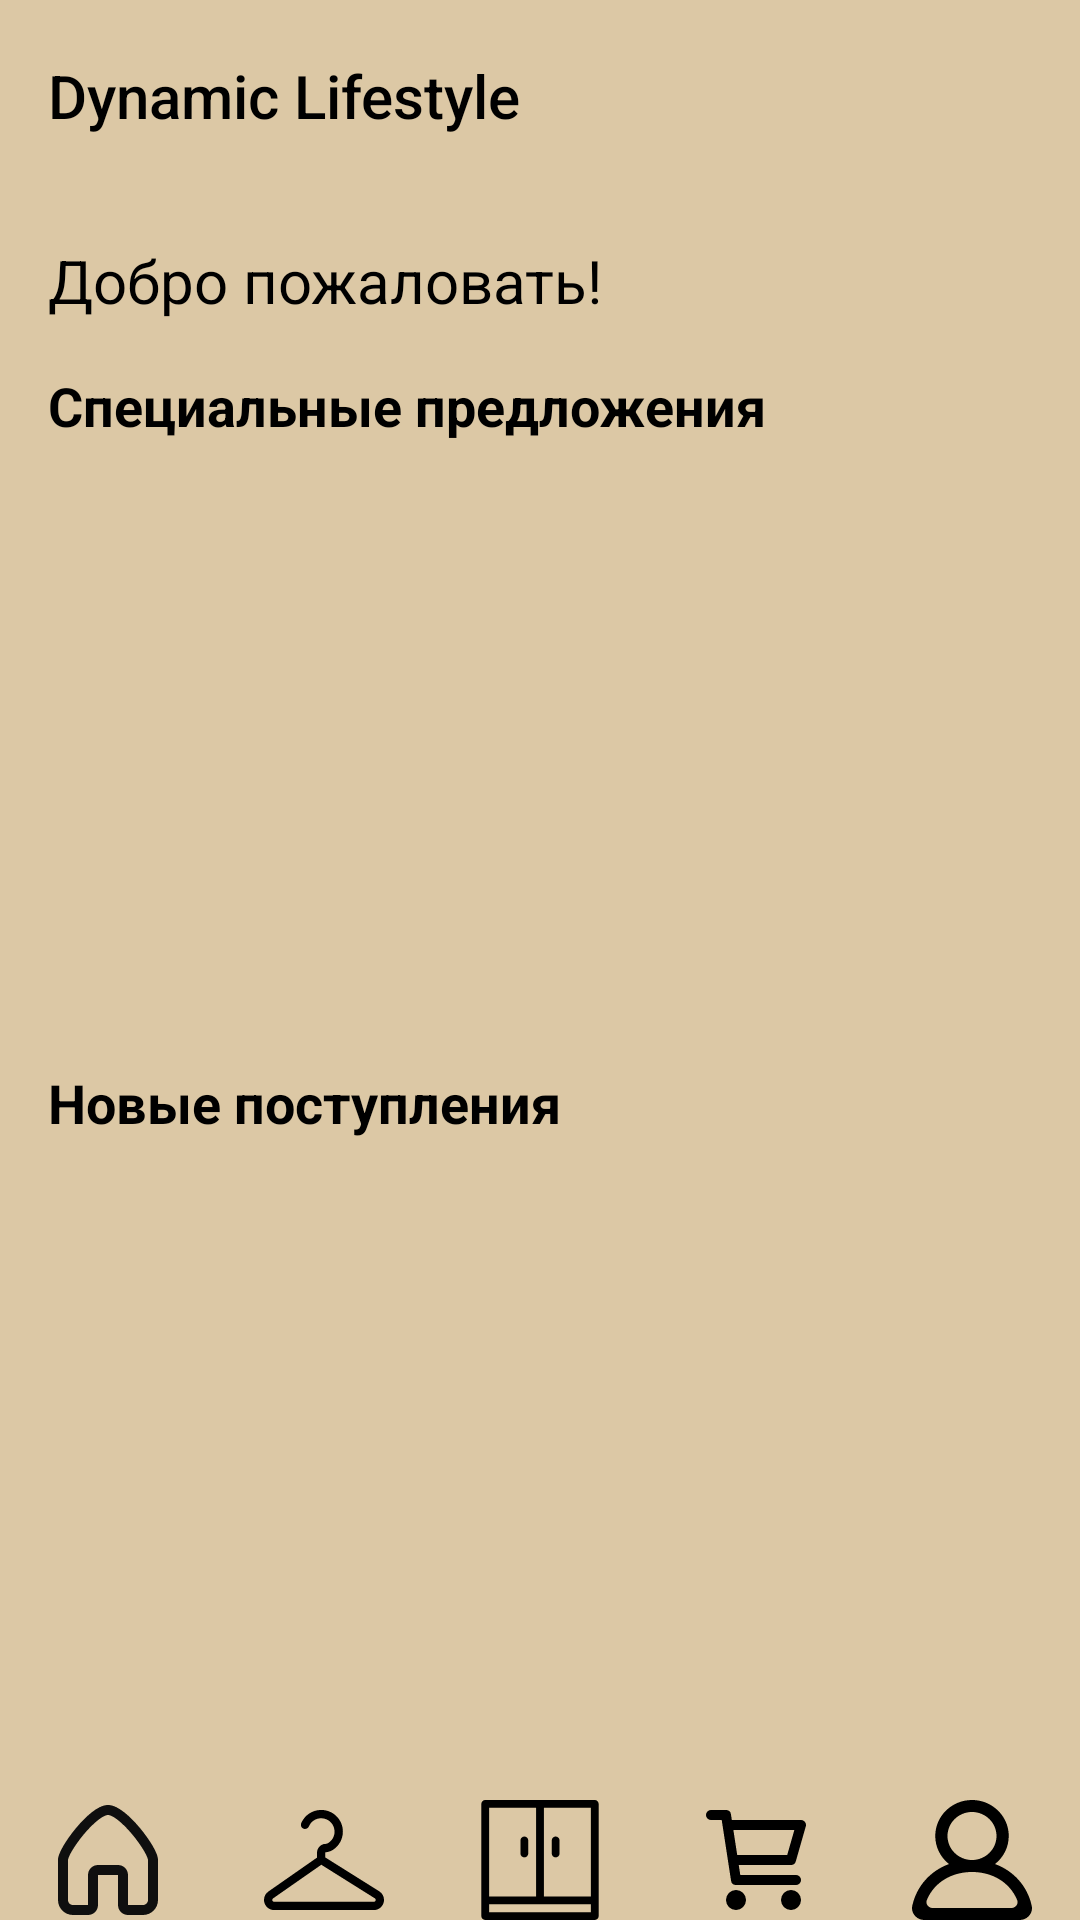

Icons on this 1080*1920 Android screen, each with its box as box=[x1, y1, x2, y2]:
cart: box=[706, 1810, 806, 1910]
hanger: box=[264, 1810, 384, 1910]
home: box=[58, 1805, 158, 1915]
profile: box=[912, 1800, 1032, 1920]
wardrobe: box=[481, 1800, 599, 1920]
